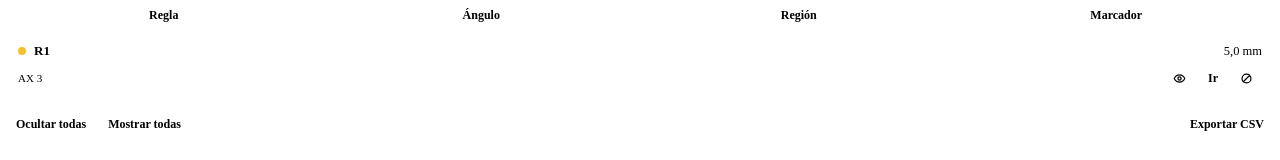
it: AnnotationsPanel › Escape cancela el renombrado
This screenshot has width=1280, height=160.
Click the text "R1" at (42, 50), box [34,43,50,58]
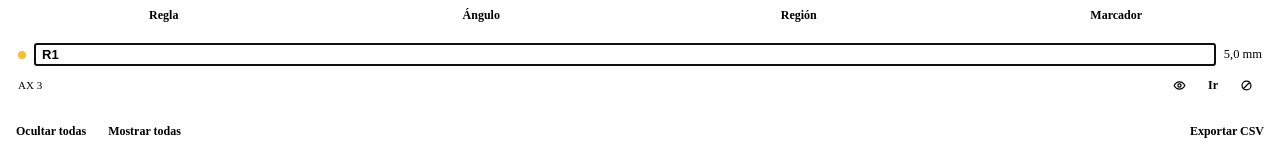
Replace the text in the field showing "R1" with "Otro" at (625, 54), box [34,43,1216,66]
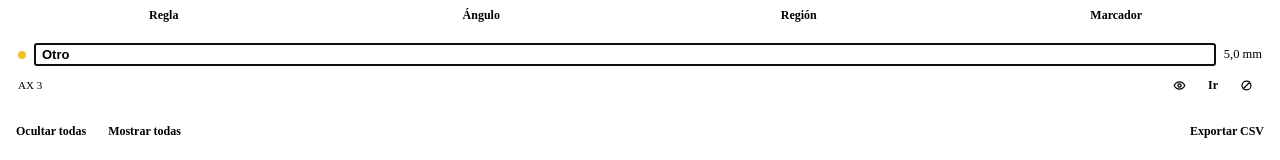
Press Escape in the field showing "R1", box [34,43,1216,66]
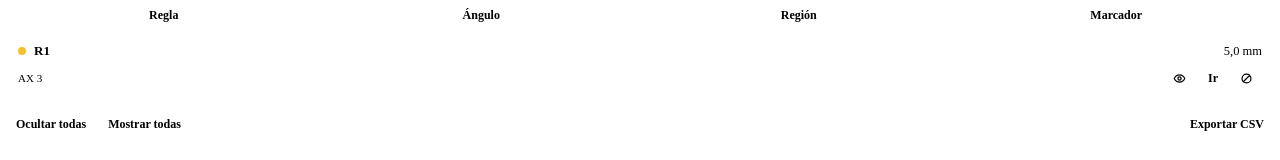
expect the text "R1" is shown: met, box [34,43,50,58]
